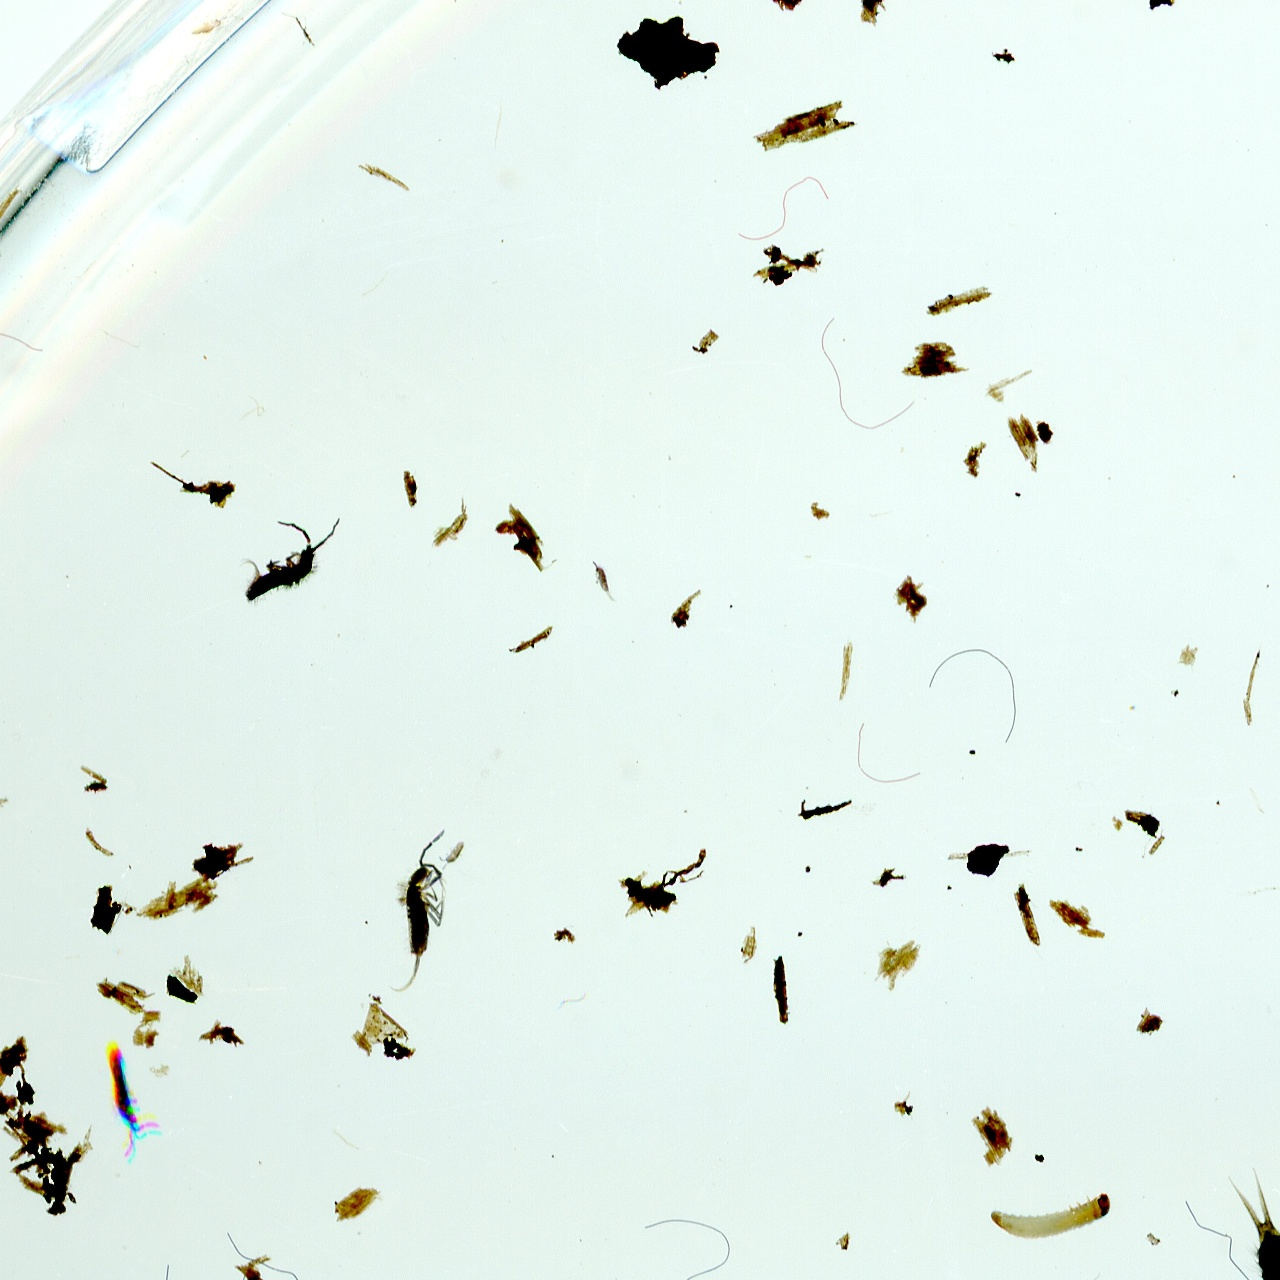arthropod: (215, 491, 366, 618), (1174, 1143, 1280, 1280), (86, 1026, 171, 1167), (384, 827, 446, 997), (986, 1192, 1113, 1244), (582, 552, 626, 614), (436, 834, 469, 874)
